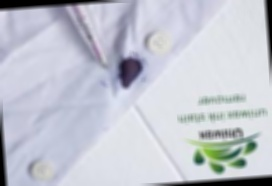ink: (117, 54, 144, 88)
